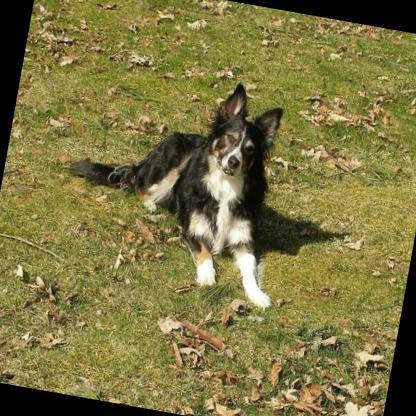Border_collie: (50, 51, 310, 314)
